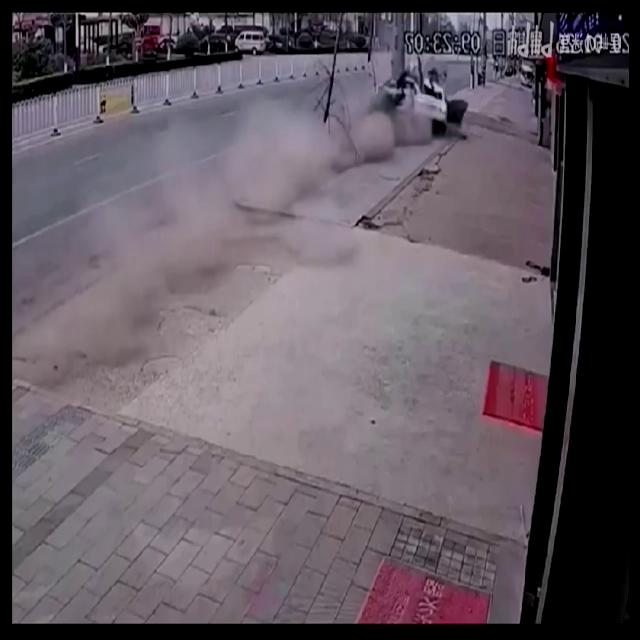accident: (384, 72, 466, 132)
